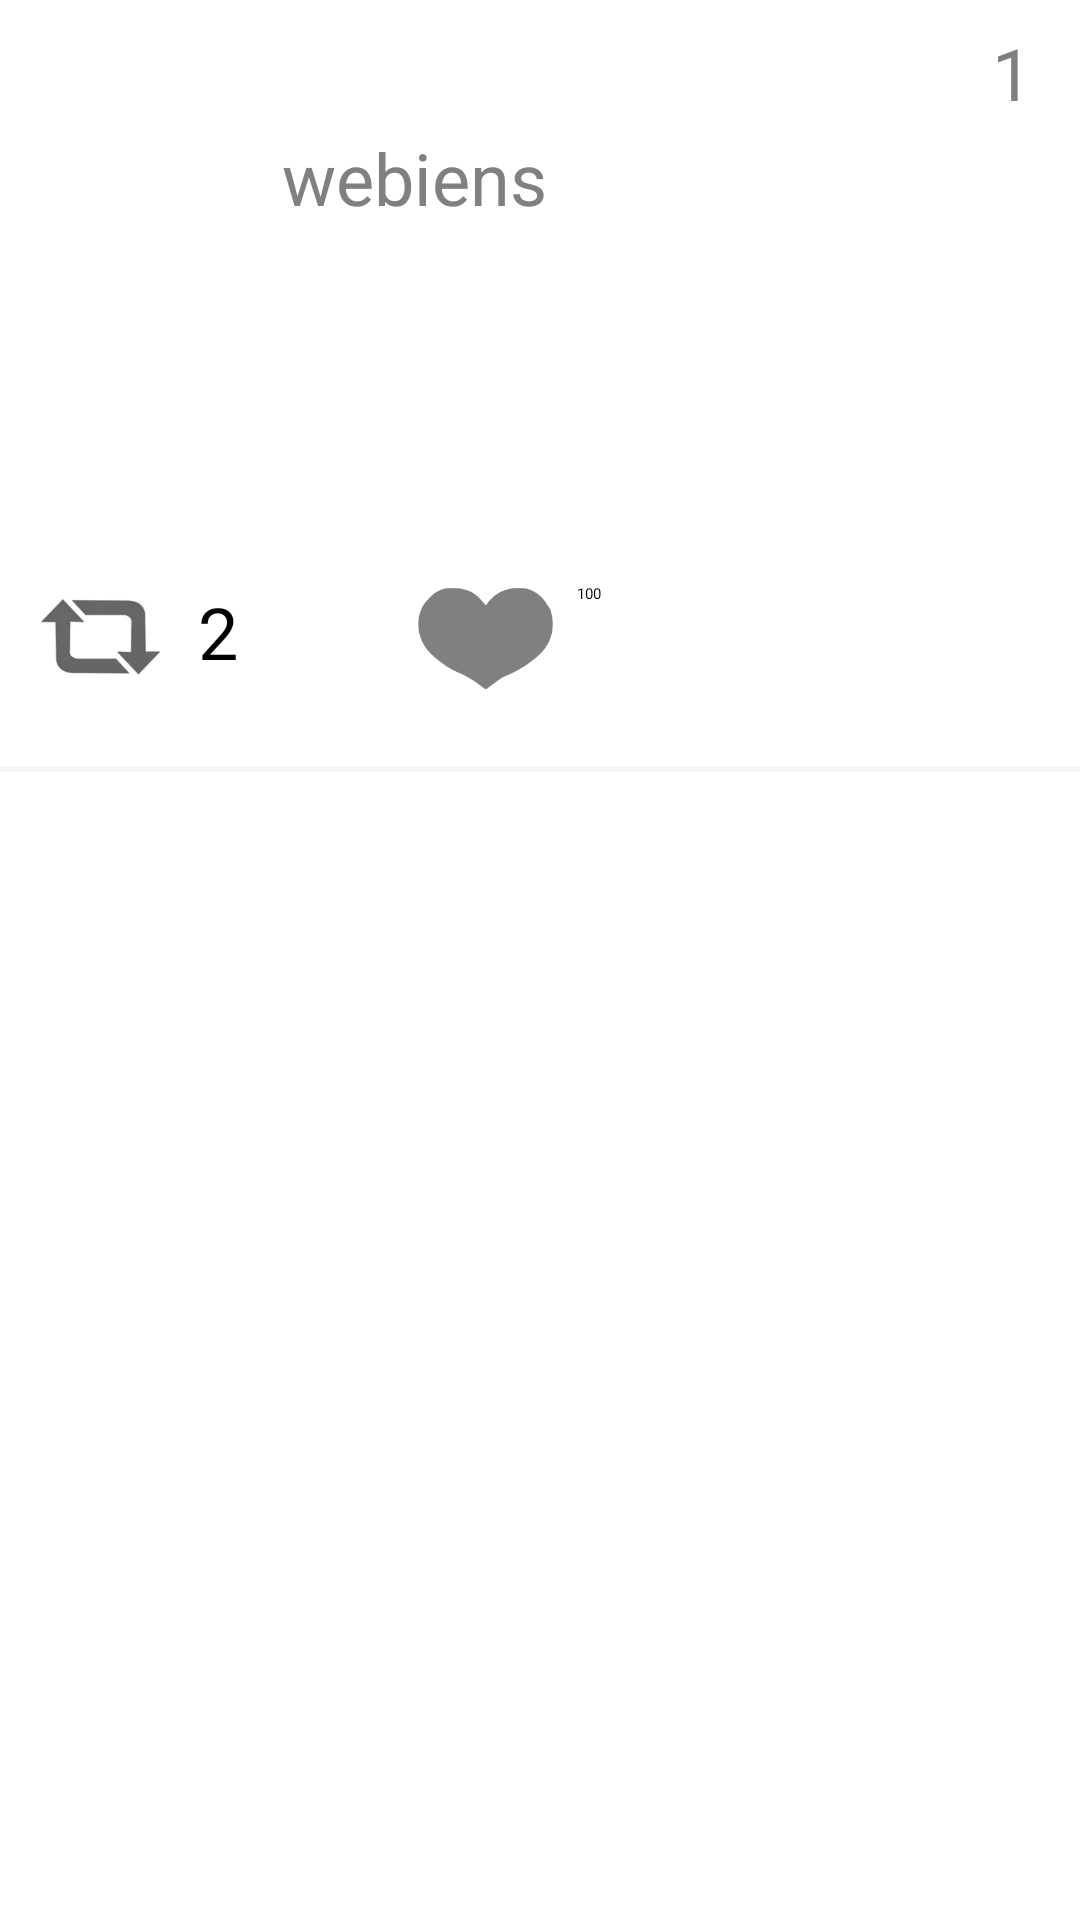

Point at icon controls on the screen. Image size 1080px×1920px, points as [x,y].
favorite: [485,638]
retweet: [100,637]
